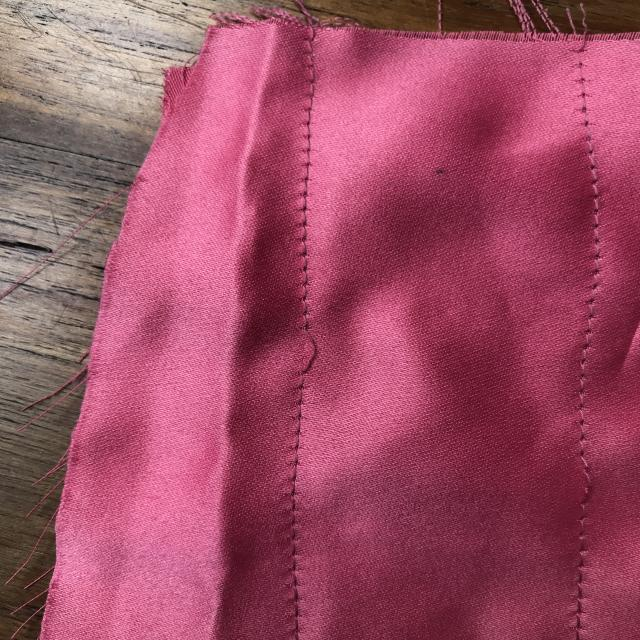skip: (290, 317, 337, 386)
